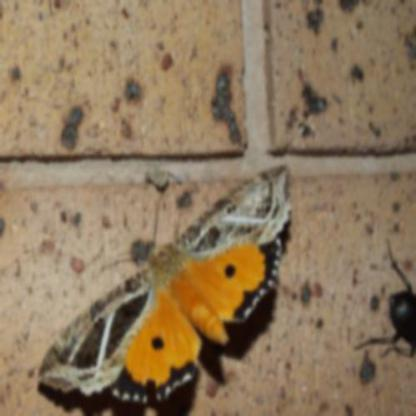fruit sucking moth: (42, 167, 293, 411)
